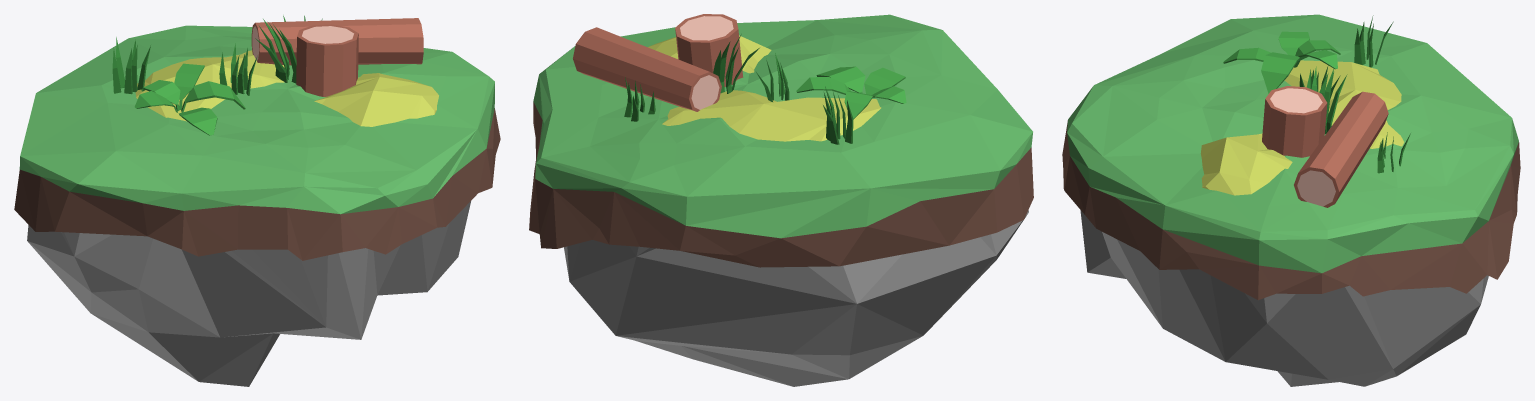
File: land-26-3.fbx
The picture shows the model from 3 angles, left to right: view 1: azimuth 30°, elevation 25°; view 2: azimuth 150°, elevation 25°; view 3: azimuth 270°, elevation 25°; orthographic projection. The views are drawn at different scales.
Visible parts, largest first — view 1: polySurface12470.001, pCylinder833.002, pCylinder832.002, pCube3678.002, polySurface12486.001, polySurface12435.002, polySurface12488.001; view 2: polySurface12470.001, pCylinder833.002, pCylinder832.002, pCube3678.002, polySurface12486.001, polySurface12435.002, polySurface12487.001, polySurface12488.001; view 3: polySurface12470.001, pCylinder833.002, pCylinder832.002, pCube3678.002, polySurface12435.002, polySurface12486.001, polySurface12487.001.
Boxes of the visible parts, bbox=[...] form: polySurface12470.001: bbox=[14, 25, 500, 386]; pCylinder833.002: bbox=[251, 18, 423, 65]; pCylinder832.002: bbox=[296, 24, 358, 96]; pCube3678.002: bbox=[134, 63, 245, 135]; polySurface12486.001: bbox=[112, 37, 150, 94]; polySurface12435.002: bbox=[255, 19, 296, 83]; polySurface12488.001: bbox=[219, 43, 257, 95]; polySurface12470.001: bbox=[529, 14, 1033, 386]; pCylinder833.002: bbox=[573, 27, 721, 111]; pCylinder832.002: bbox=[675, 14, 743, 86]; pCube3678.002: bbox=[796, 66, 906, 119]; polySurface12486.001: bbox=[823, 86, 853, 144]; polySurface12435.002: bbox=[713, 34, 759, 93]; polySurface12487.001: bbox=[624, 77, 655, 121]; polySurface12488.001: bbox=[756, 53, 789, 101]; polySurface12470.001: bbox=[1062, 14, 1520, 386]; pCylinder833.002: bbox=[1294, 91, 1388, 207]; pCylinder832.002: bbox=[1262, 86, 1327, 157]; pCube3678.002: bbox=[1223, 31, 1340, 93]; polySurface12435.002: bbox=[1307, 66, 1347, 134]; polySurface12486.001: bbox=[1354, 15, 1393, 67]; polySurface12487.001: bbox=[1377, 132, 1410, 173].
Bounding box in the file's own units: 491 × 352 × 433.
Materials: 1 (1 with a texture image).
